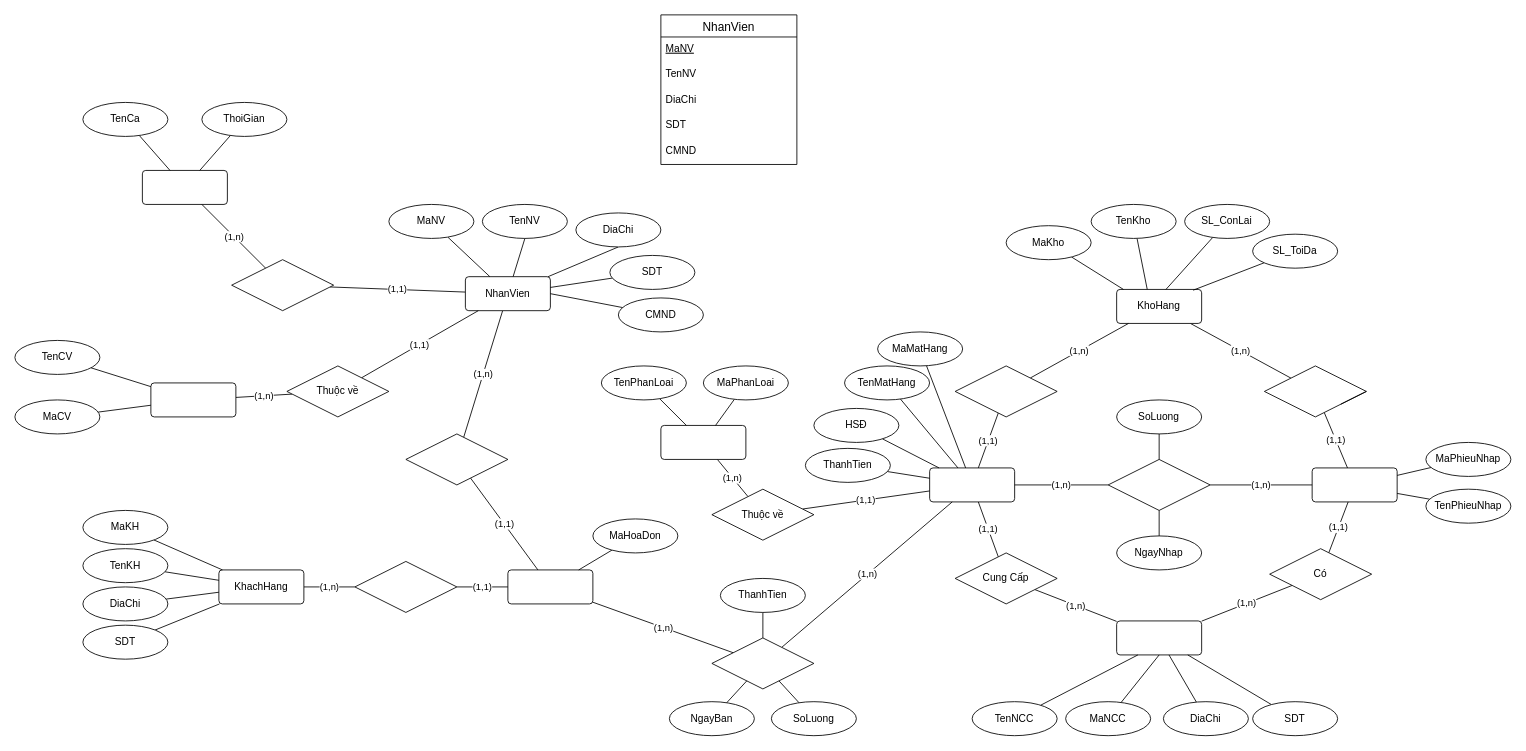
The diagram is 1526 pixels wide and 751 high, and some of its shapes have lost their labels. The centre of each missing label's shape, as x and y in pixels:
Bán: the point at 456,459
CaLamViec: the point at 184,187
ChucVu: the point at 193,399
CTHD: the point at 762,663
CTPN: the point at 1158,484
HoaDon: the point at 550,586
Kiểm soát: the point at 1315,391
LoaiMatHang: the point at 703,442
Làm việc: the point at 282,285
MatHang: the point at 972,484
NhaCungCap: the point at 1159,637
PhieuNhapHang: the point at 1354,484
Quản lí: the point at 1005,391
Thanh Toán: the point at 405,586
